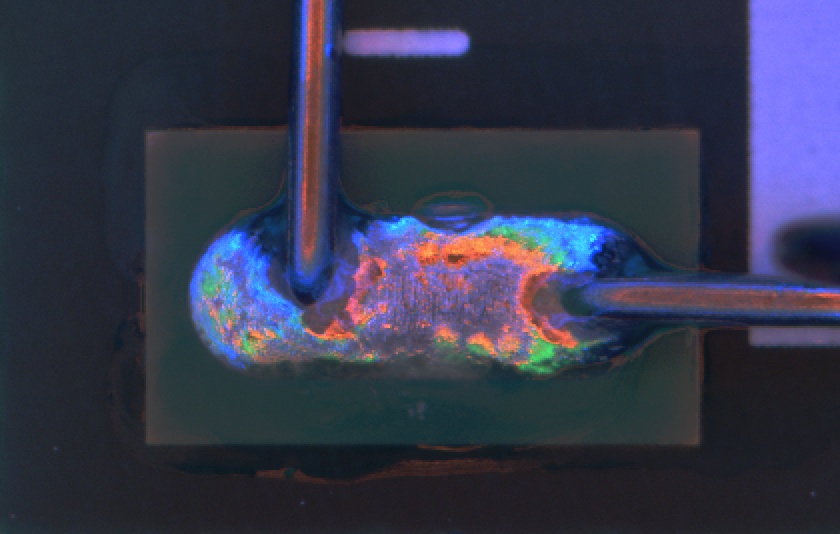spring: (564, 238, 840, 334), (281, 1, 349, 317)
spring_pin: (183, 201, 658, 380)
